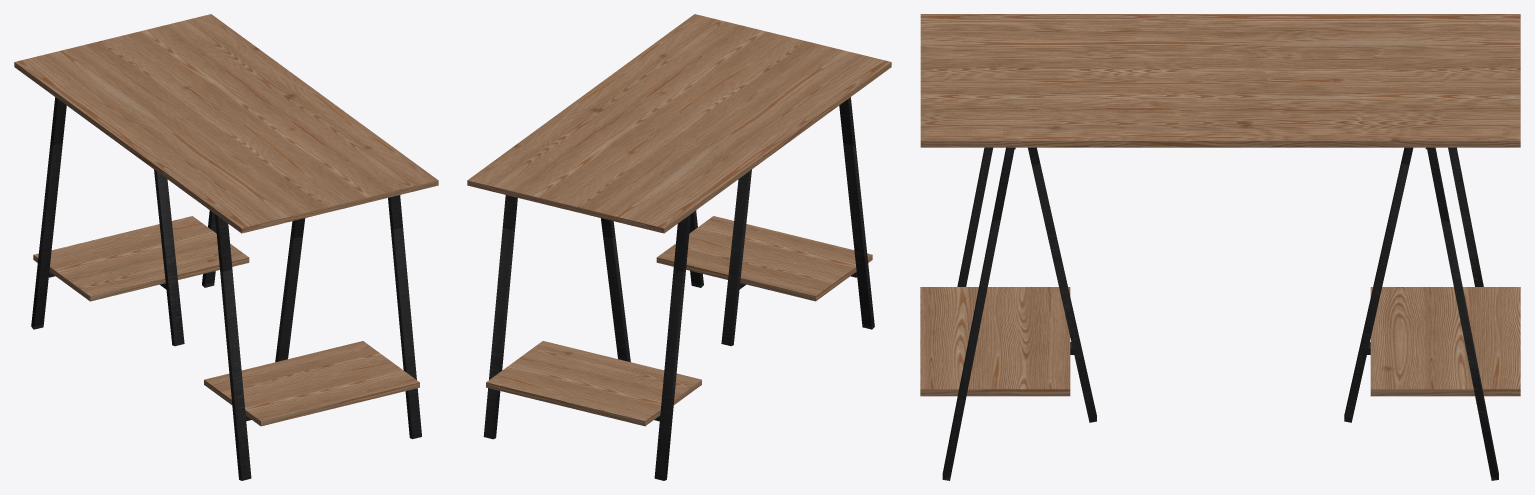
The model's file is study_desk_neoarch.gltf.
3 renders of one model, left to right at view 1: azimuth 30°, elevation 25°; view 2: azimuth 150°, elevation 25°; view 3: azimuth 270°, elevation 25°, orthographic. The views are drawn at different scales.
Visible parts, largest first — view 1: Wood - Walnut Horizontal Semi Dark _Wood - Walnut Horizontal, Metal - Iron Black _Metal - Iron Black _0; view 2: Wood - Walnut Horizontal Semi Dark _Wood - Walnut Horizontal, Metal - Iron Black _Metal - Iron Black _0; view 3: Wood - Walnut Horizontal Semi Dark _Wood - Walnut Horizontal, Metal - Iron Black _Metal - Iron Black _0.
Part boxes in pixels (x1,y1,x2,y2): Wood - Walnut Horizontal Semi Dark _Wood - Walnut Horizontal: [14, 14, 438, 426]; Metal - Iron Black _Metal - Iron Black _0: [31, 97, 421, 480]; Wood - Walnut Horizontal Semi Dark _Wood - Walnut Horizontal: [467, 14, 891, 426]; Metal - Iron Black _Metal - Iron Black _0: [483, 97, 874, 480]; Wood - Walnut Horizontal Semi Dark _Wood - Walnut Horizontal: [920, 14, 1520, 396]; Metal - Iron Black _Metal - Iron Black _0: [942, 147, 1498, 480].
Bounding box in the file's own units: 0.5949 × 0.7554 × 1.19.
5 materials, 4 textured.
